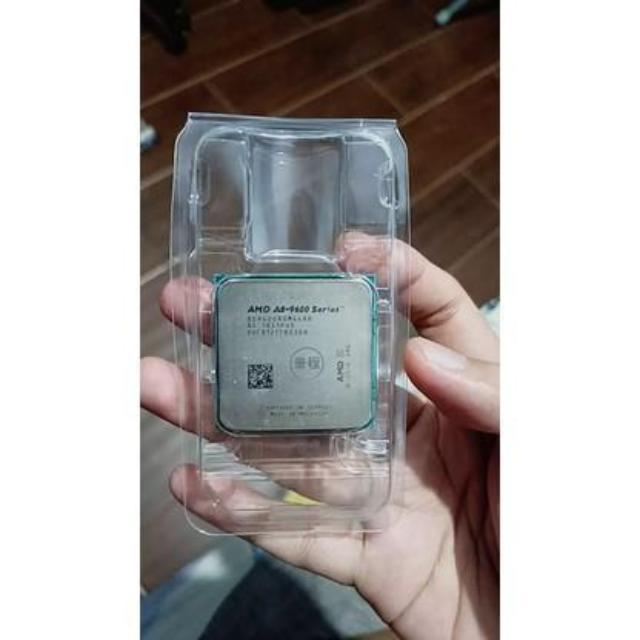CPU: (211, 274, 374, 434)
